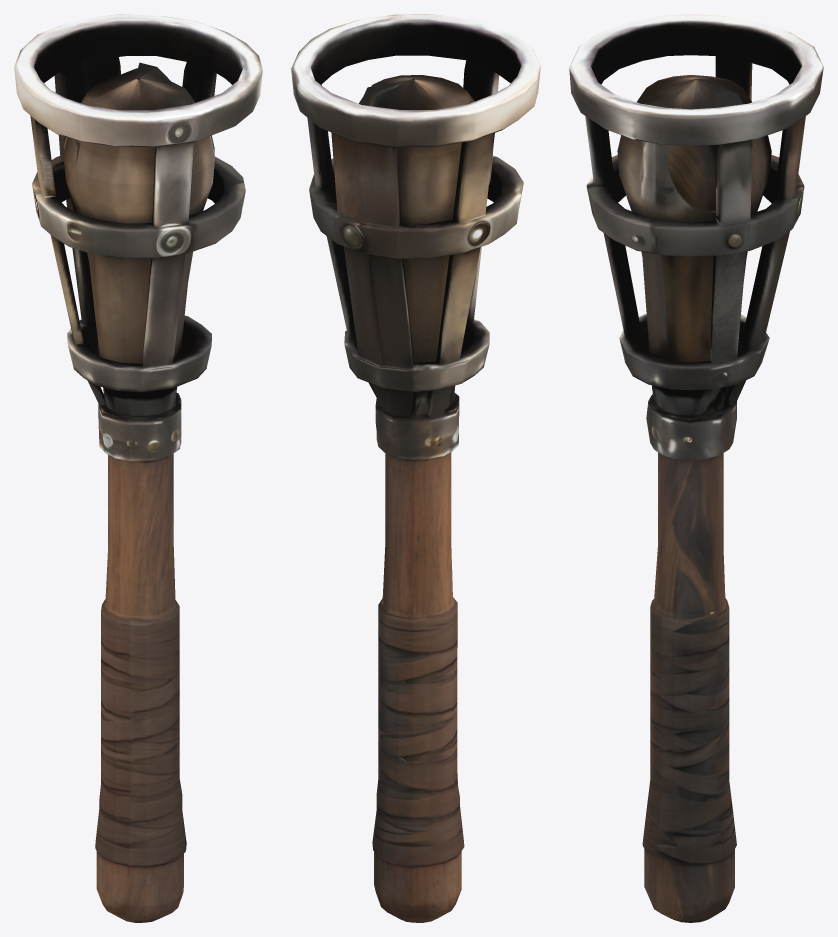
Rendered from torch.glb.
The picture shows the model from 3 angles, left to right: view 1: azimuth 30°, elevation 25°; view 2: azimuth 150°, elevation 25°; view 3: azimuth 270°, elevation 25°; orthographic projection.
Parts seen in each view (by area): view 1: model; view 2: model; view 3: model.
Part boxes in pixels (bbox=[...]): model: bbox=[14, 14, 262, 922]; model: bbox=[291, 14, 540, 922]; model: bbox=[569, 14, 823, 922].
Bounding box in the file's own units: 0.0998 × 0.3805 × 0.1029.
Materials: 1 (1 with a texture image).
